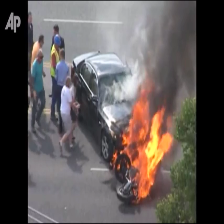fire_h: (120, 70, 173, 201)
fire_l: (117, 158, 129, 169), (111, 150, 117, 168)
